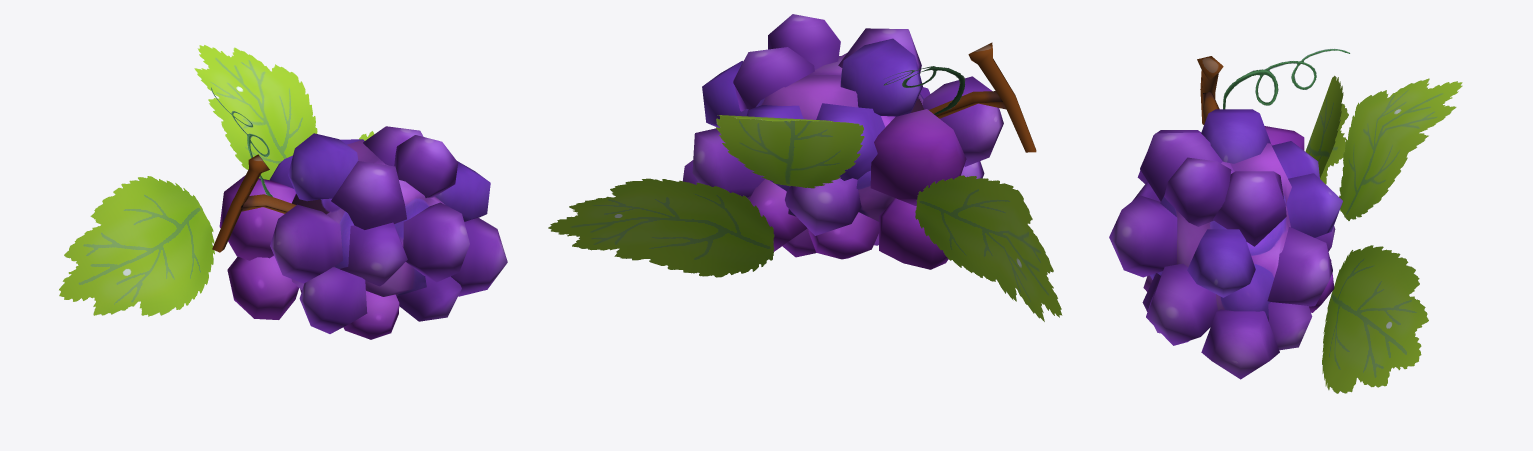
The model's file is Grapes.fbx.
3 views of the same model, side by side, from view 1: azimuth 30°, elevation 25°; view 2: azimuth 150°, elevation 25°; view 3: azimuth 270°, elevation 25° (orthographic). The views are drawn at different scales.
Visible parts, largest first — view 1: 048; view 2: 048; view 3: 048.
Part boxes in pixels (x1,y1,x2,y2): 048: [59, 45, 507, 339]; 048: [548, 14, 1062, 321]; 048: [1109, 48, 1462, 393].
Size of the model in its own units: 28.36 by 18.27 by 20.41.
Materials: 1 (1 with a texture image).
